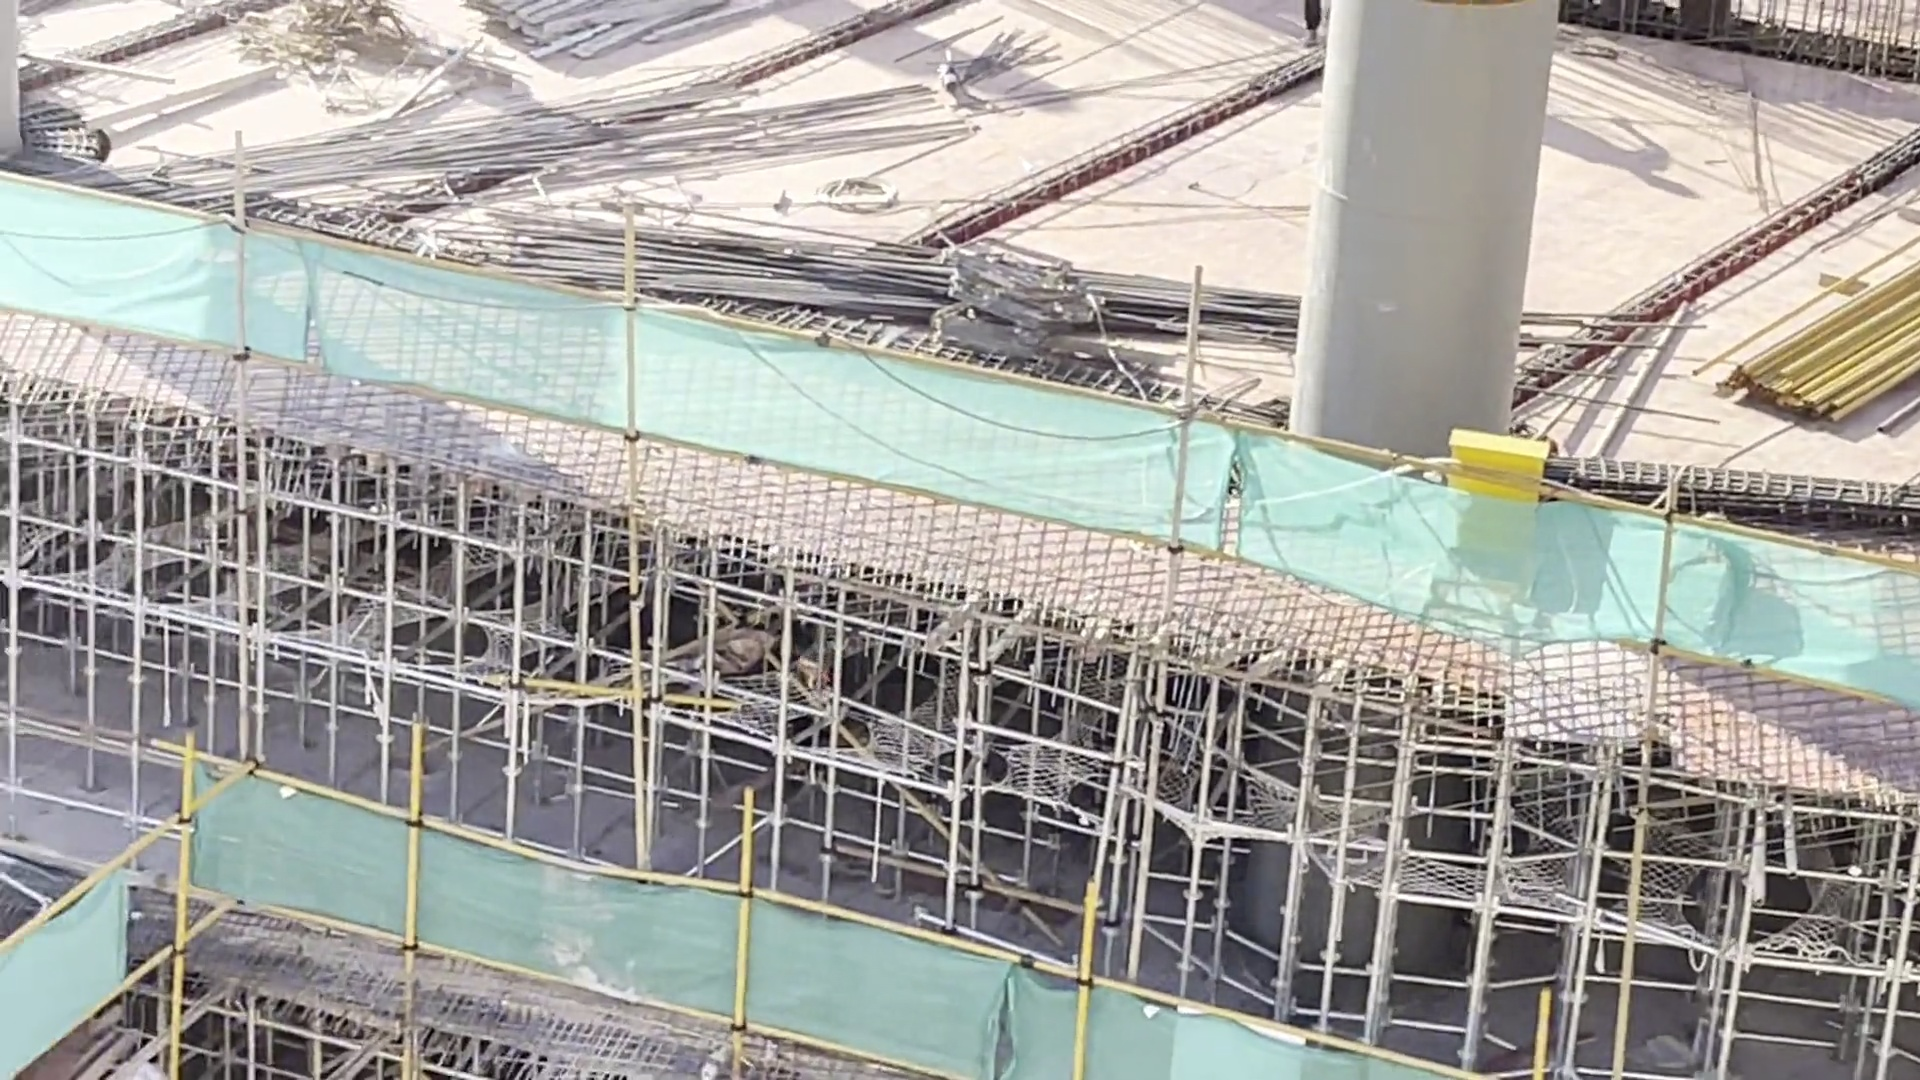ebox: (1425, 411, 1551, 585)
